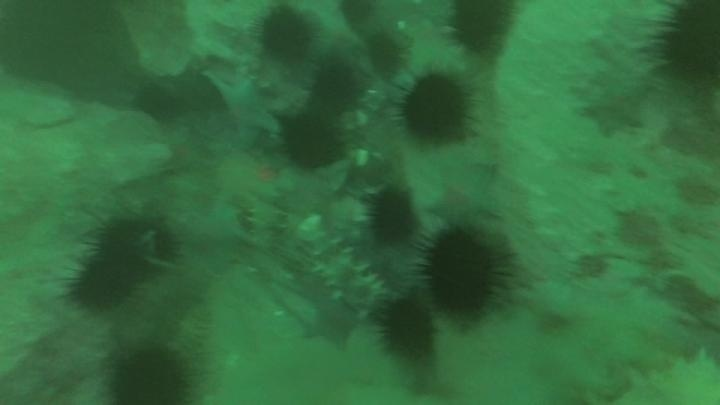echinus: (420, 231, 506, 318), (89, 212, 180, 274), (652, 2, 719, 86), (106, 344, 192, 405), (398, 75, 474, 144), (67, 254, 138, 312), (377, 296, 438, 362), (279, 112, 345, 171), (446, 1, 516, 56), (255, 6, 317, 64), (364, 187, 418, 246), (309, 60, 362, 111), (132, 82, 183, 124), (364, 31, 406, 77), (336, 1, 378, 28)
holothurian: (300, 227, 388, 315), (616, 348, 720, 405), (244, 190, 286, 249), (174, 302, 215, 362)
starfish: (201, 73, 278, 146), (423, 164, 503, 229), (184, 200, 251, 269), (577, 77, 650, 139), (300, 296, 361, 351), (239, 152, 292, 199)
